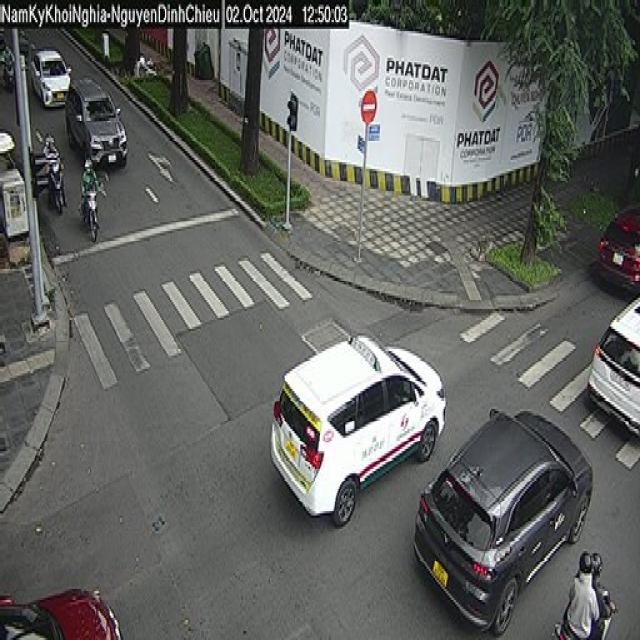car: (460, 412, 640, 640), (269, 334, 448, 529), (584, 299, 640, 440), (0, 586, 125, 640), (63, 79, 133, 175), (600, 205, 640, 296), (31, 48, 72, 105)
motorcycle: (552, 588, 616, 640), (82, 187, 102, 243), (46, 161, 66, 216), (4, 59, 16, 90)
person: (572, 550, 596, 640), (590, 549, 606, 631), (76, 154, 105, 198), (42, 128, 56, 178), (47, 136, 59, 178), (4, 40, 14, 70)
